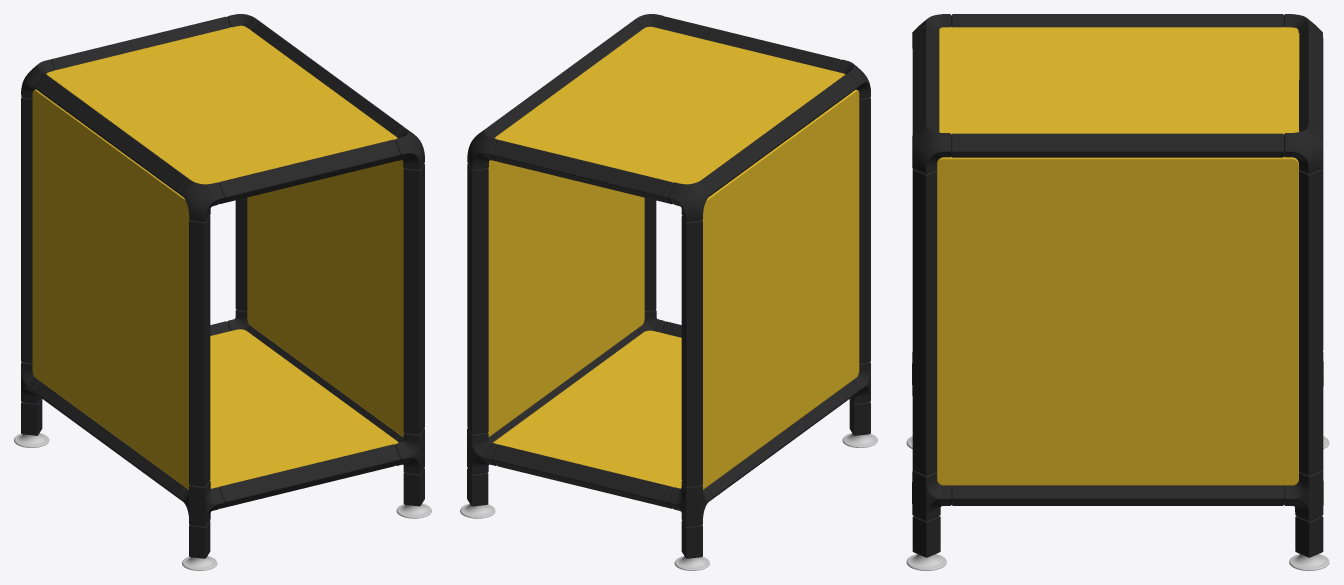
3 views of the same model, side by side, from view 1: azimuth 30°, elevation 25°; view 2: azimuth 150°, elevation 25°; view 3: azimuth 270°, elevation 25° (orthographic). The views are drawn at different scales.
Visible parts, largest first — view 1: 229x329x329; view 2: 229x329x329; view 3: 229x329x329.
Boxes of the visible parts, <box> form: 229x329x329: <box>14,14,431,570</box>; 229x329x329: <box>460,14,877,570</box>; 229x329x329: <box>906,14,1329,570</box>.
Size of the model in its own units: 0.3189 by 0.4683 by 0.4182.
